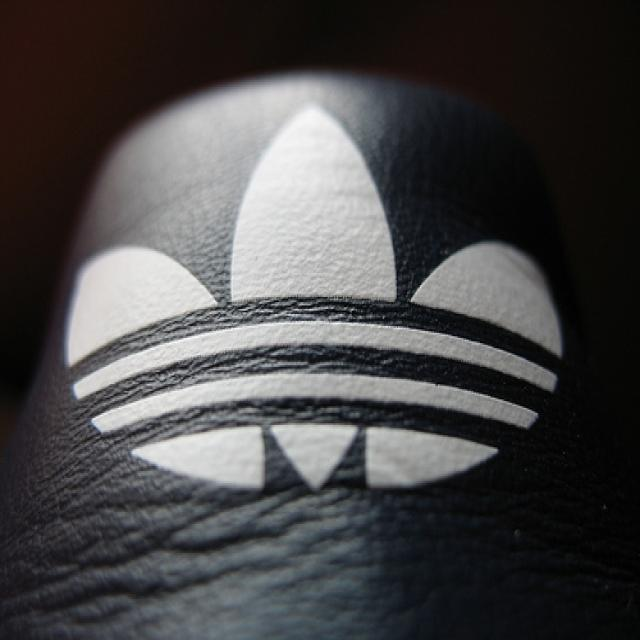adidas: (61, 92, 572, 517)
